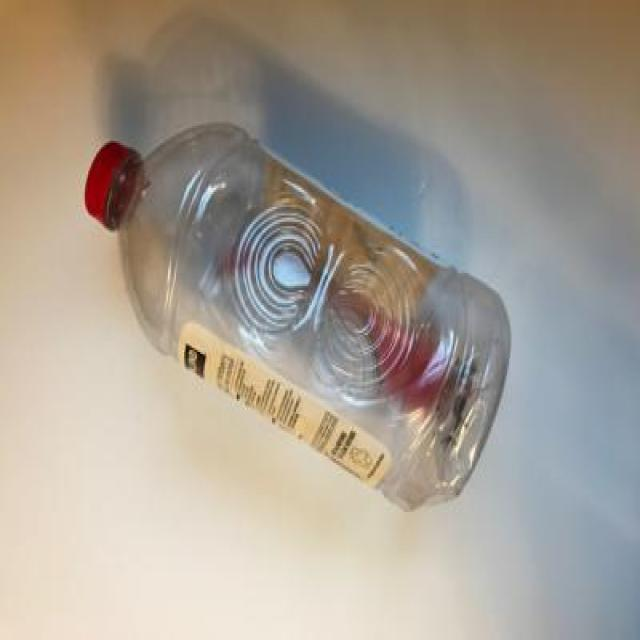plastic: (71, 112, 524, 524)
